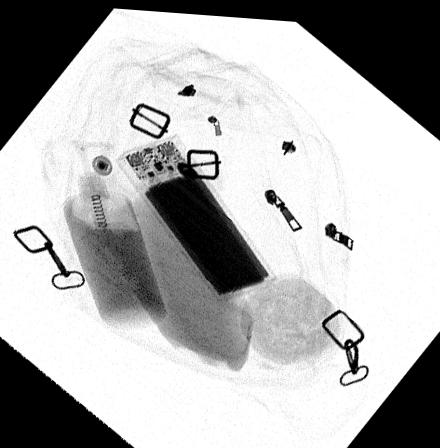Powerbank: (113, 130, 277, 298)
